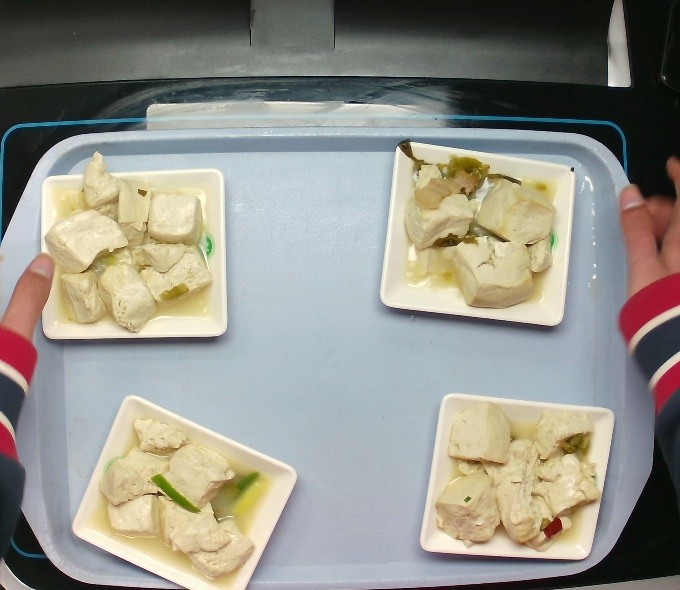wcq-LuDouFu: (73, 396, 296, 590), (380, 150, 574, 325), (415, 391, 609, 566), (45, 168, 227, 337)
